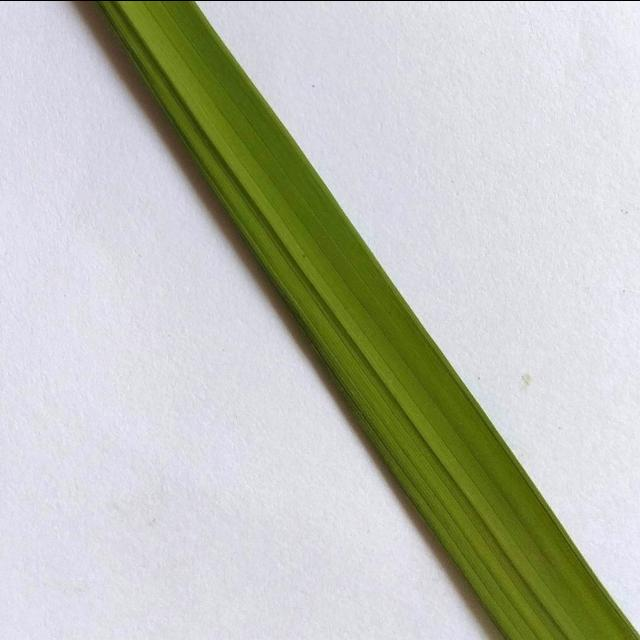healthy: (69, 0, 640, 640)
